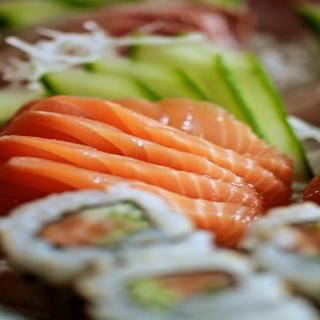Sushi: (6, 187, 203, 277), (75, 255, 312, 319), (239, 196, 319, 302)
